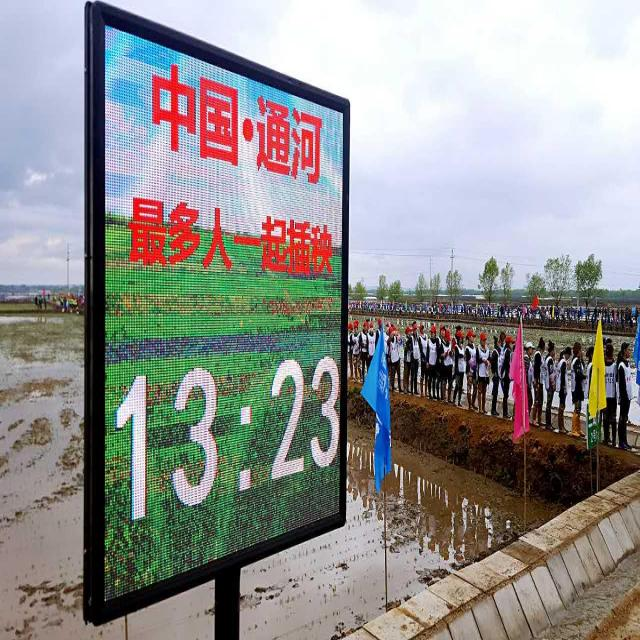non-fight: (609, 342, 633, 449), (553, 346, 571, 434), (492, 334, 510, 419), (570, 346, 586, 437)
